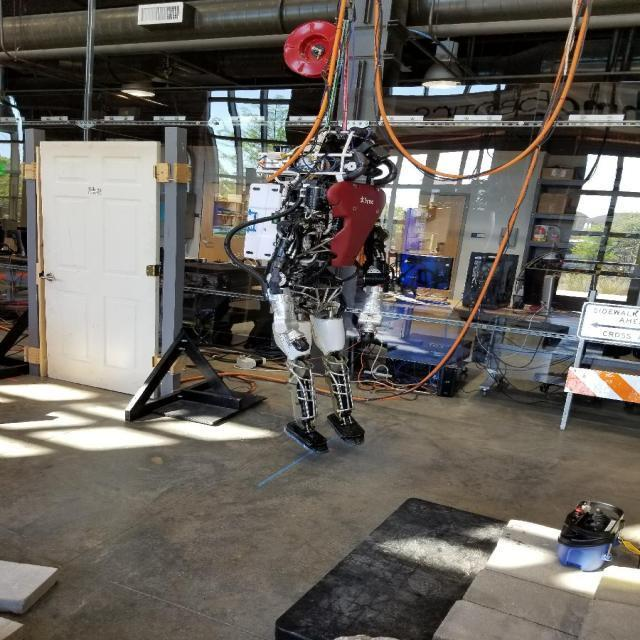door: (34, 136, 164, 400), (41, 270, 60, 284)
